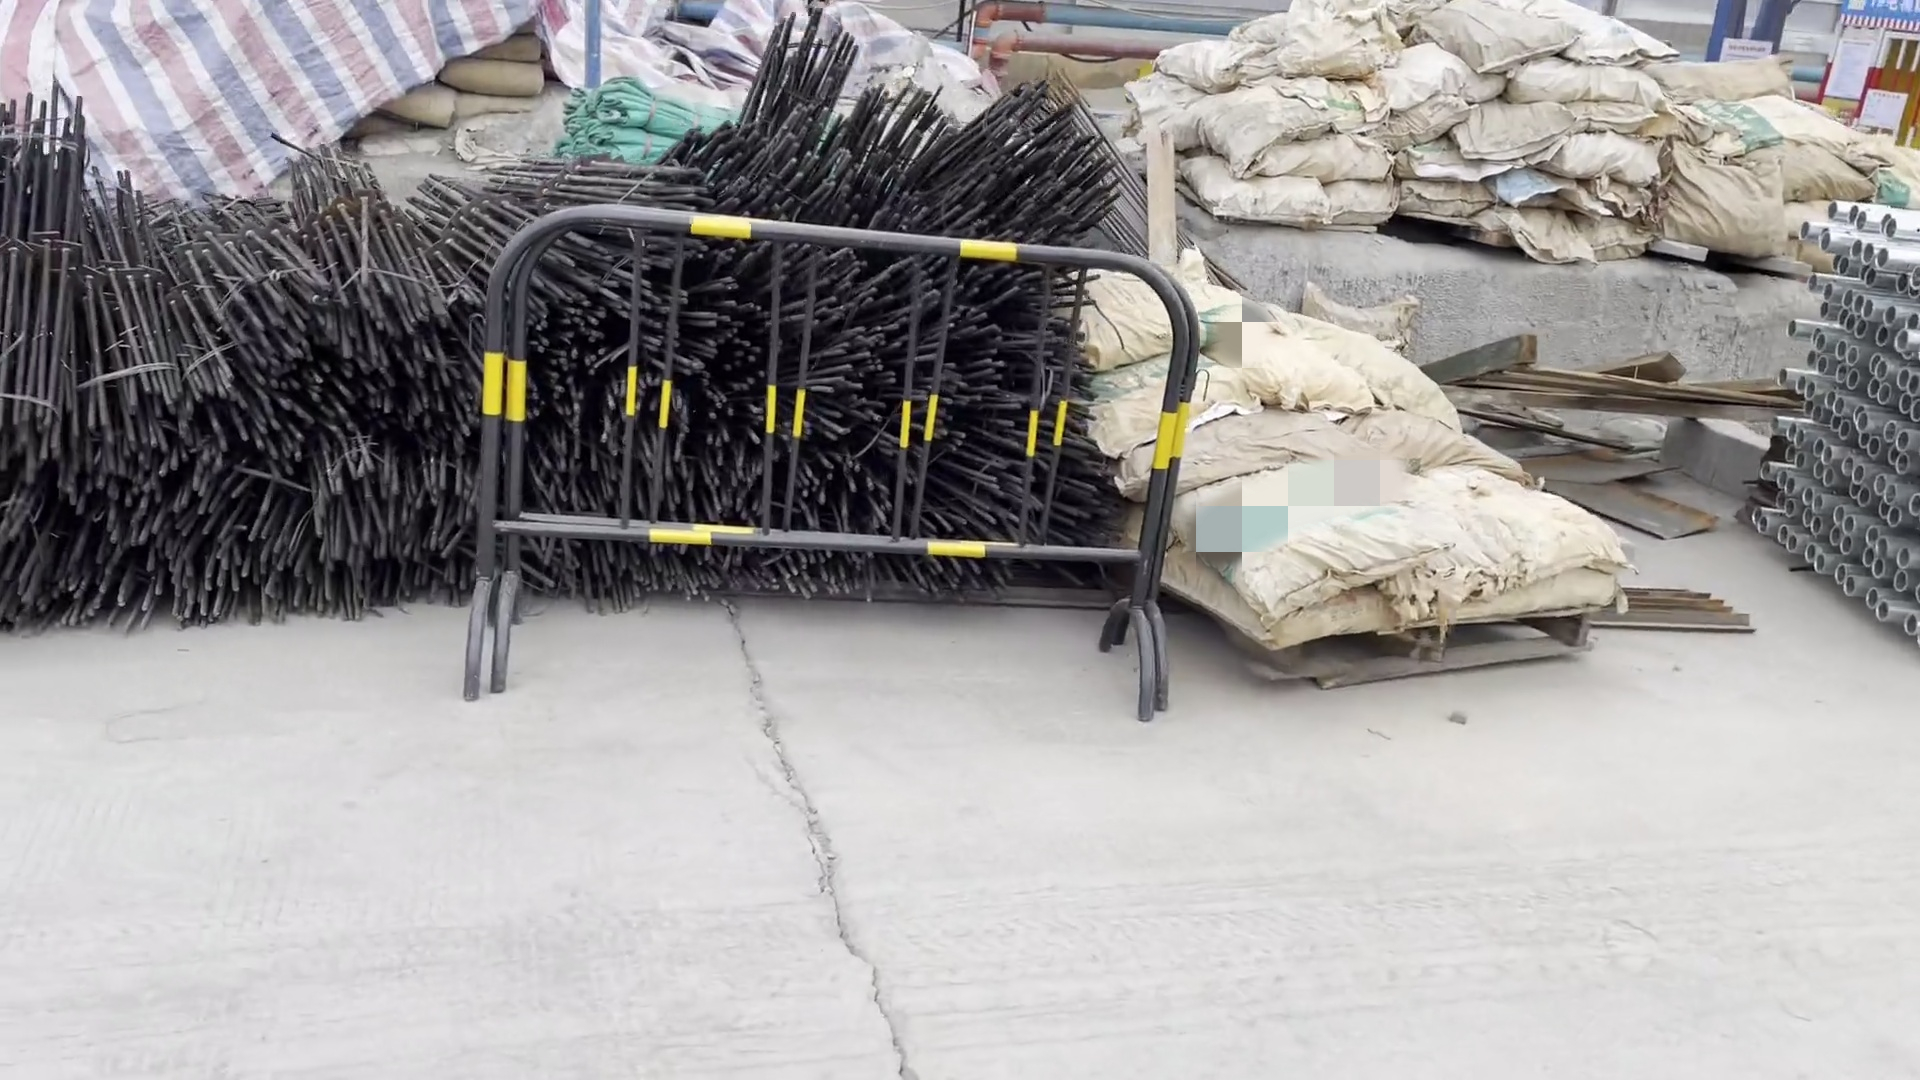scaffold: (1702, 175, 1920, 650)
